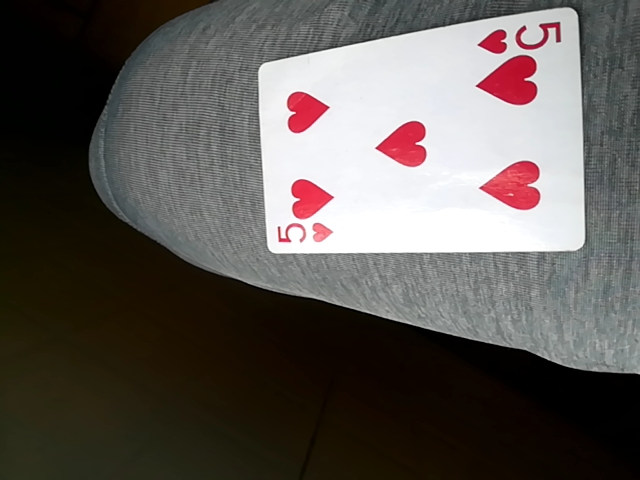hx 5: (258, 3, 589, 258)
